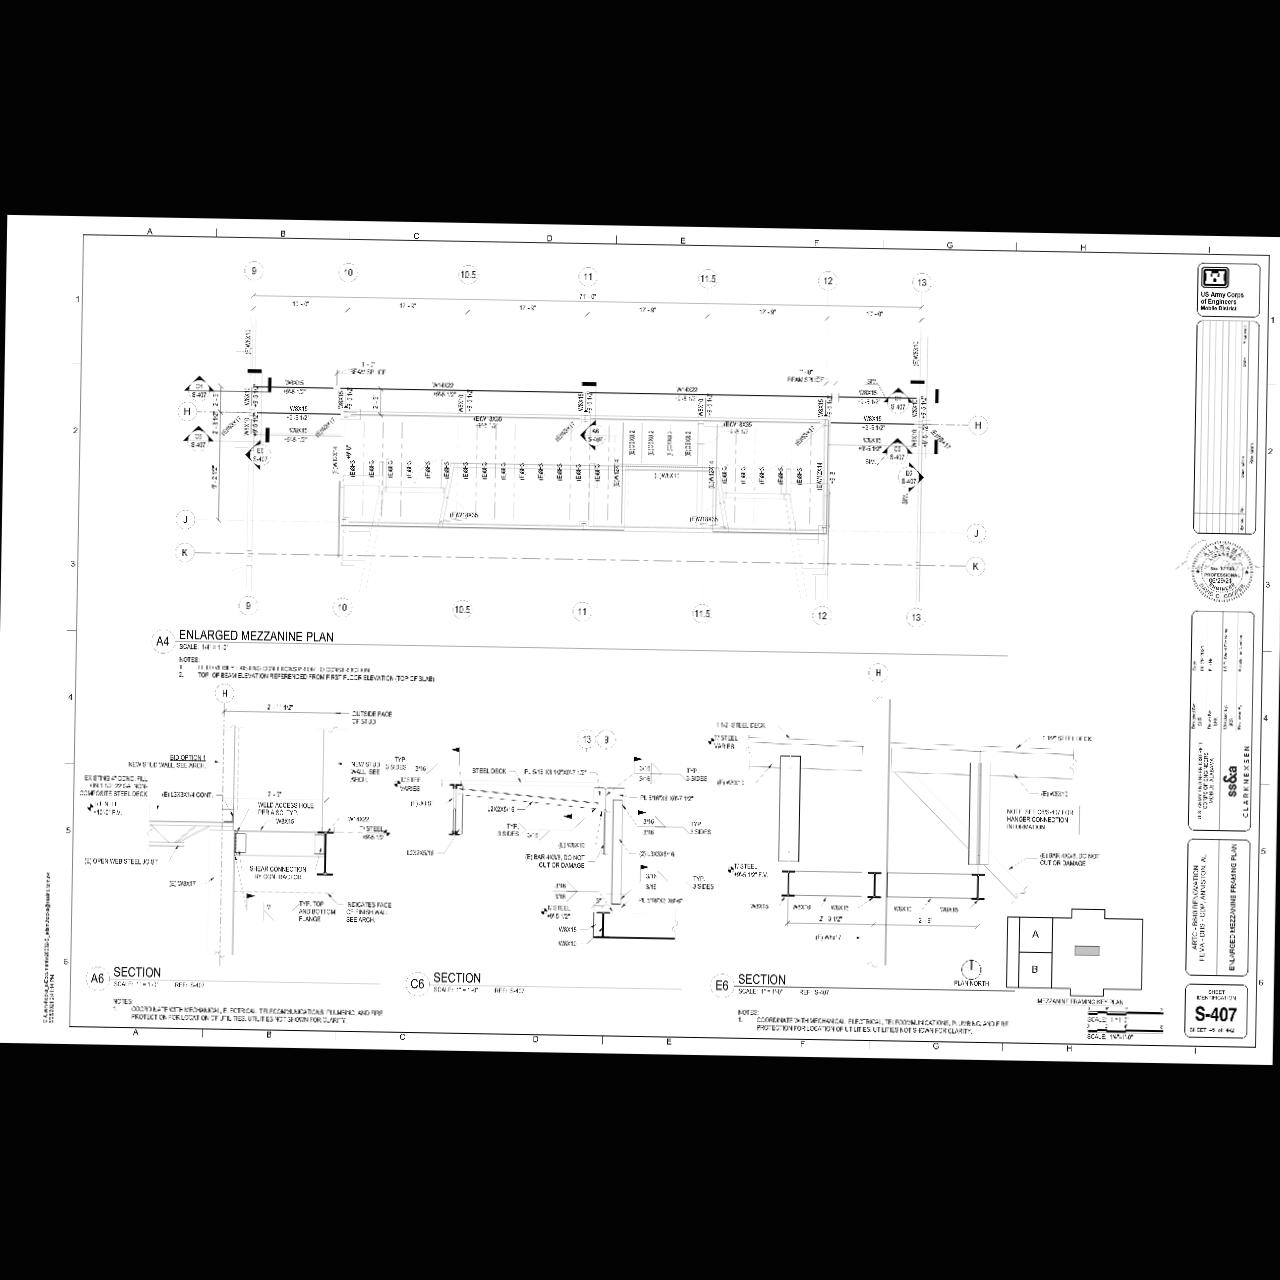elevation: (181, 374, 218, 403), (880, 384, 915, 415), (243, 438, 273, 472), (880, 436, 915, 465), (182, 423, 215, 454), (579, 420, 608, 452), (897, 462, 925, 493)
title: (148, 622, 1010, 670), (83, 962, 383, 998), (403, 968, 685, 1005), (709, 971, 1017, 1003), (1035, 994, 1170, 1043)
